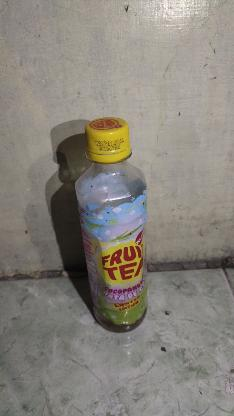Plastic Bottle: (74, 116, 148, 332)
